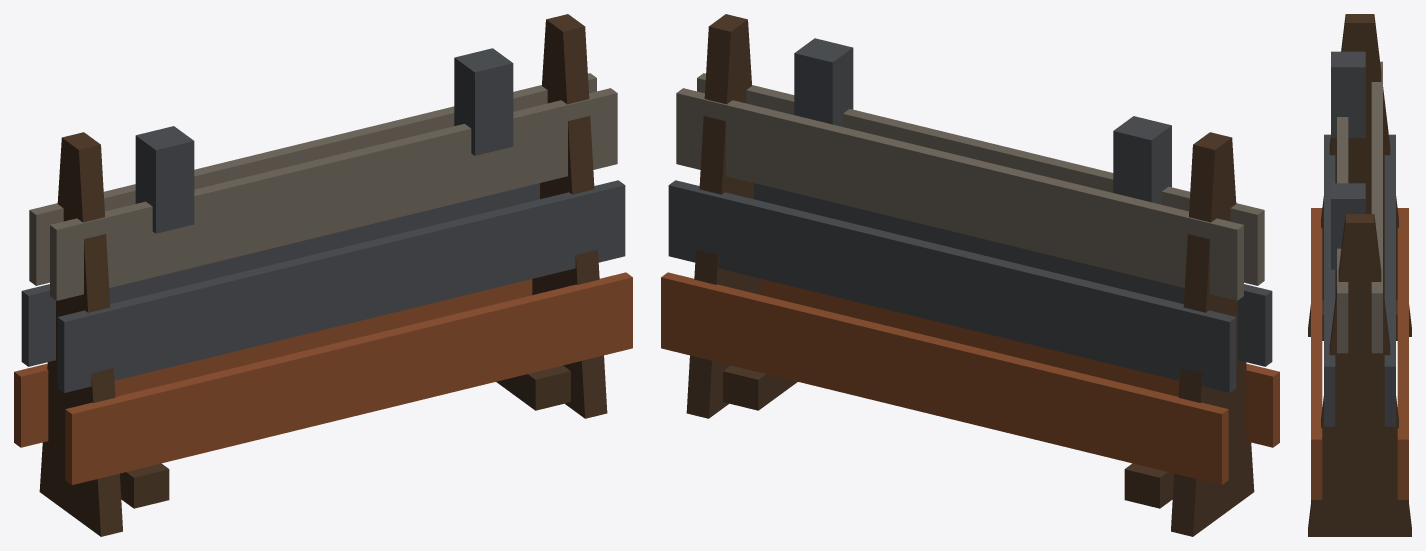
File: piece_barricade.fbx
3 views of the same model, side by side, from view 1: azimuth 30°, elevation 25°; view 2: azimuth 150°, elevation 25°; view 3: azimuth 270°, elevation 25° (orthographic). The views are drawn at different scales.
Visible parts, largest first — view 1: piece_barricade; view 2: piece_barricade; view 3: piece_barricade.
Part boxes in pixels (bbox=[...]): piece_barricade: bbox=[14, 14, 632, 536]; piece_barricade: bbox=[661, 14, 1279, 536]; piece_barricade: bbox=[1308, 14, 1411, 536].
Bounding box in the file's own units: 1.9 × 1.2 × 0.36.
